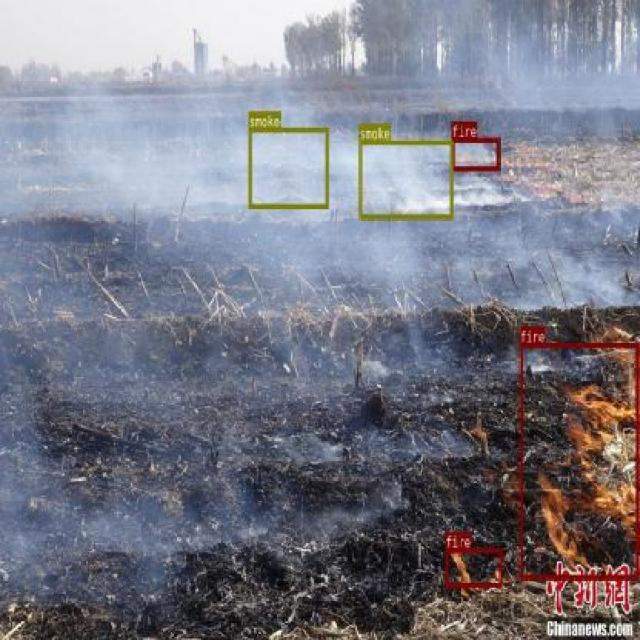Fire: (518, 342, 638, 578), (444, 547, 502, 587), (451, 138, 498, 170)
Smoke: (358, 139, 452, 218), (248, 126, 328, 208)
